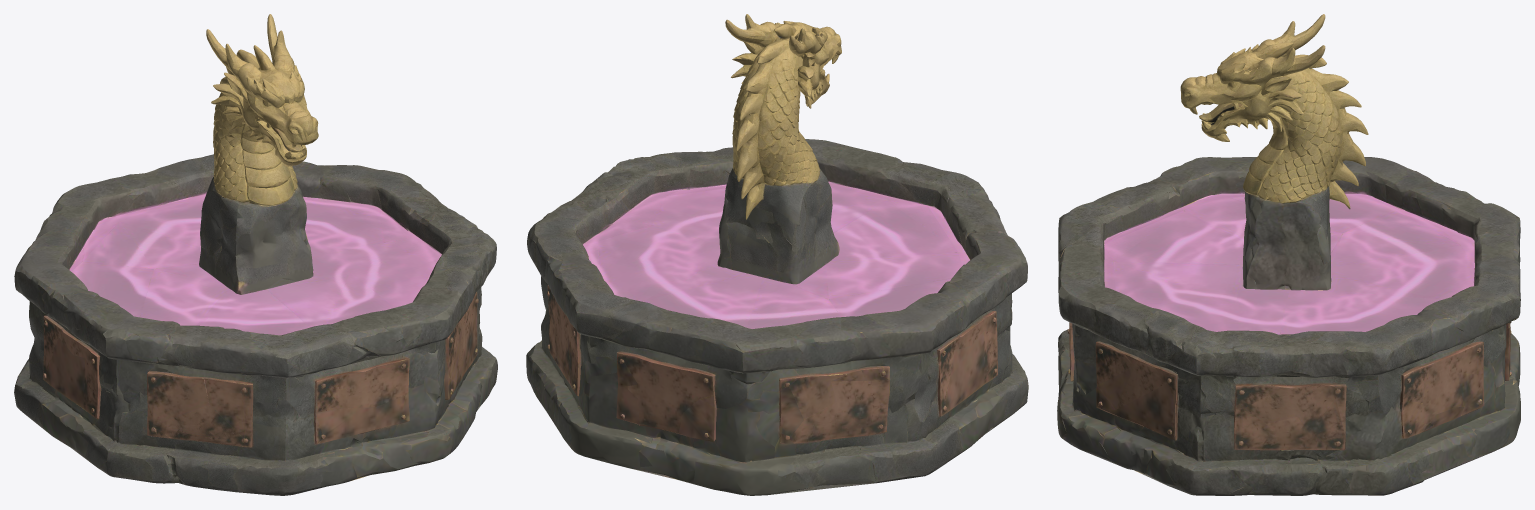
The model's file is fountain_dragon.glb.
3 views of the same model, side by side, from view 1: azimuth 30°, elevation 25°; view 2: azimuth 150°, elevation 25°; view 3: azimuth 270°, elevation 25° (orthographic). The views are drawn at different scales.
Visible parts, largest first — view 1: fountain_dragon; view 2: fountain_dragon; view 3: fountain_dragon.
Boxes of the visible parts, x1=… form: fountain_dragon: x1=14, y1=14, x2=497, y2=495; fountain_dragon: x1=526, y1=14, x2=1028, y2=495; fountain_dragon: x1=1057, y1=14, x2=1520, y2=495.
Bounding box in the file's own units: 4.76 × 4.2 × 4.77.
1 material, 1 textured.
